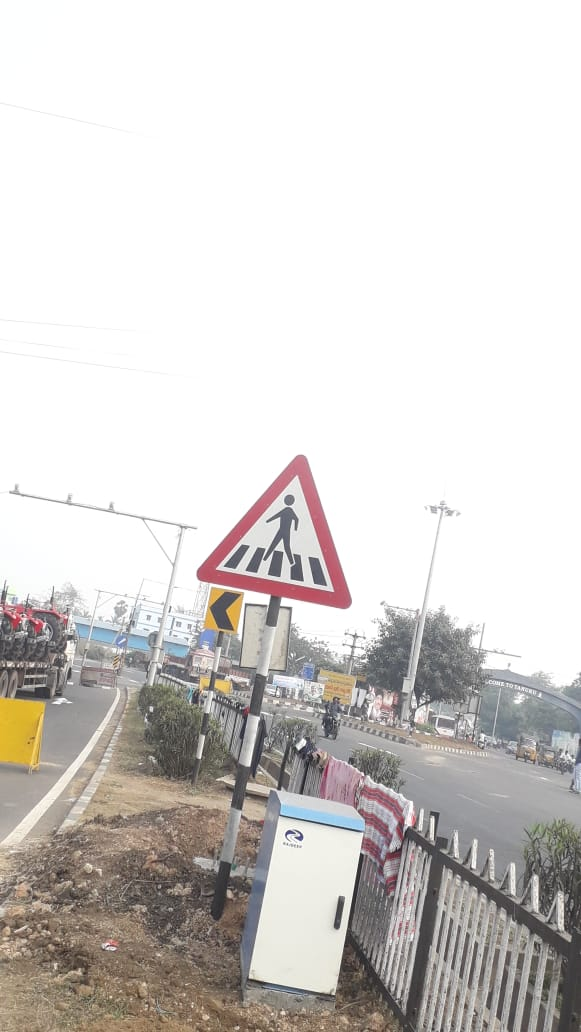pedestrian crossing: (201, 451, 367, 620)
